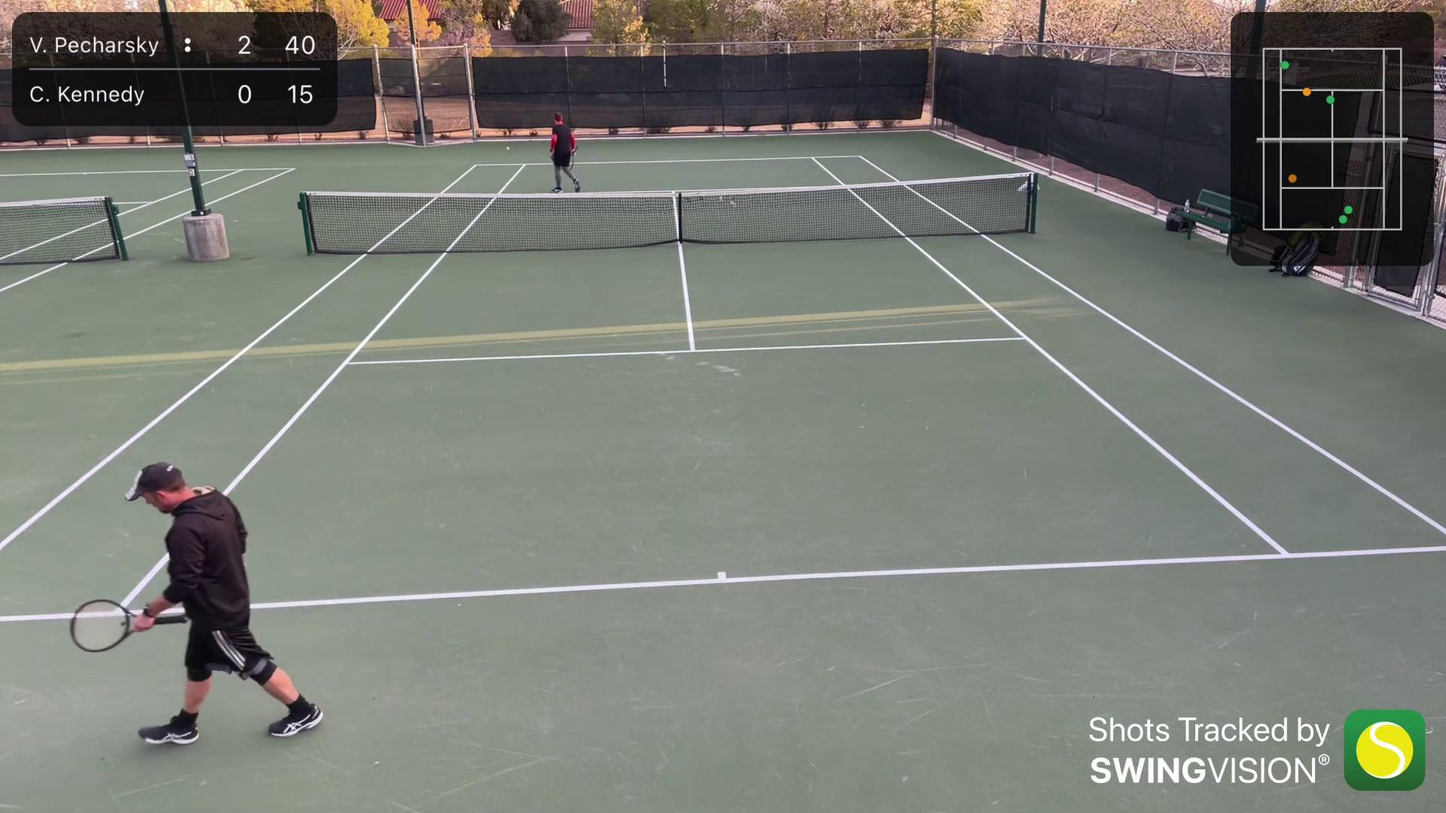ball: (507, 145, 510, 148)
